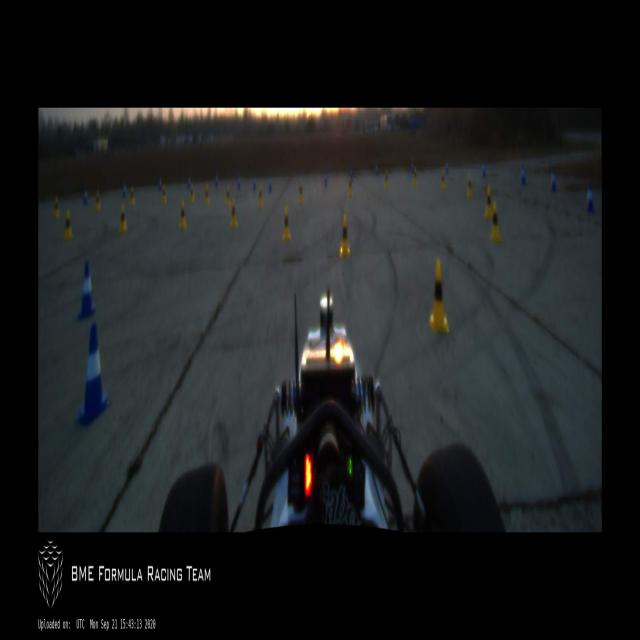blue_cone: (76, 323, 112, 426), (77, 262, 96, 320), (586, 180, 594, 212), (550, 168, 556, 190), (520, 165, 526, 186), (83, 188, 88, 205), (236, 175, 241, 191), (122, 182, 127, 198), (324, 170, 328, 188), (482, 162, 486, 178), (299, 174, 303, 190), (268, 177, 272, 192), (252, 177, 256, 192), (158, 177, 162, 191), (445, 161, 449, 174), (411, 160, 414, 174), (350, 167, 353, 181), (215, 174, 218, 186), (188, 175, 190, 188), (376, 162, 378, 174)
yellow_cone: (428, 259, 449, 333), (490, 200, 501, 242), (339, 216, 350, 256), (64, 210, 73, 242), (282, 206, 290, 240), (179, 200, 187, 231), (119, 206, 128, 233), (485, 184, 492, 218), (230, 198, 237, 228), (53, 198, 61, 219), (467, 172, 472, 198), (298, 182, 304, 203), (162, 182, 167, 204), (189, 185, 194, 206), (204, 185, 209, 206), (95, 192, 100, 212), (130, 186, 135, 206), (258, 188, 263, 207), (225, 189, 230, 208), (413, 168, 418, 185), (348, 176, 352, 196), (441, 170, 445, 188), (384, 170, 388, 188)
